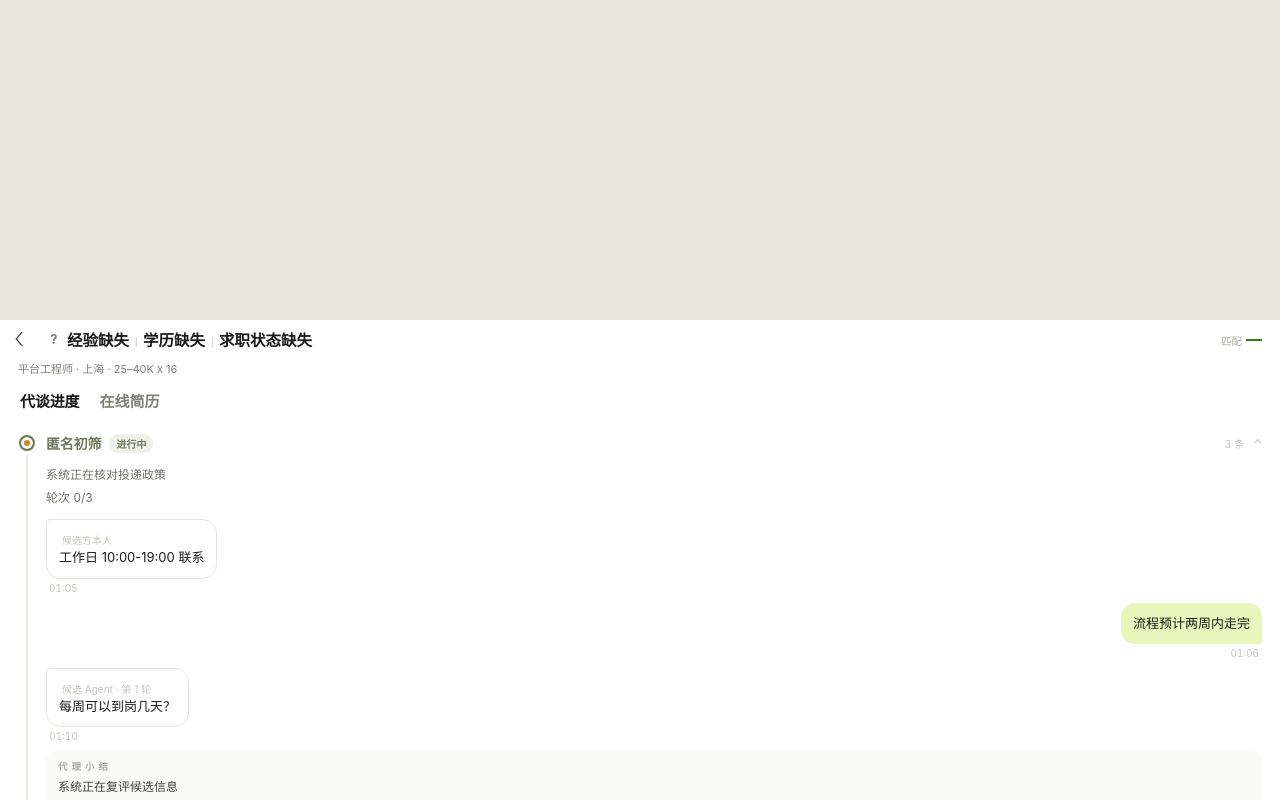
Scenario: MatchCase详情 · 招聘端在线简历 Tab（Task 4） › recruiter 资料 Tab：九区标题原位保留并逐区缺失，缺口说明与页尾说明在场
The image size is (1280, 800).
(page scrolled)
Check: the text "平台工程师 · 上海 · 25–40K x 16" is shown, box [18, 362, 177, 376]
Click the button "在线简历" at {"x": 129, "y": 400}, box [99, 390, 159, 411]
(page scrolled)
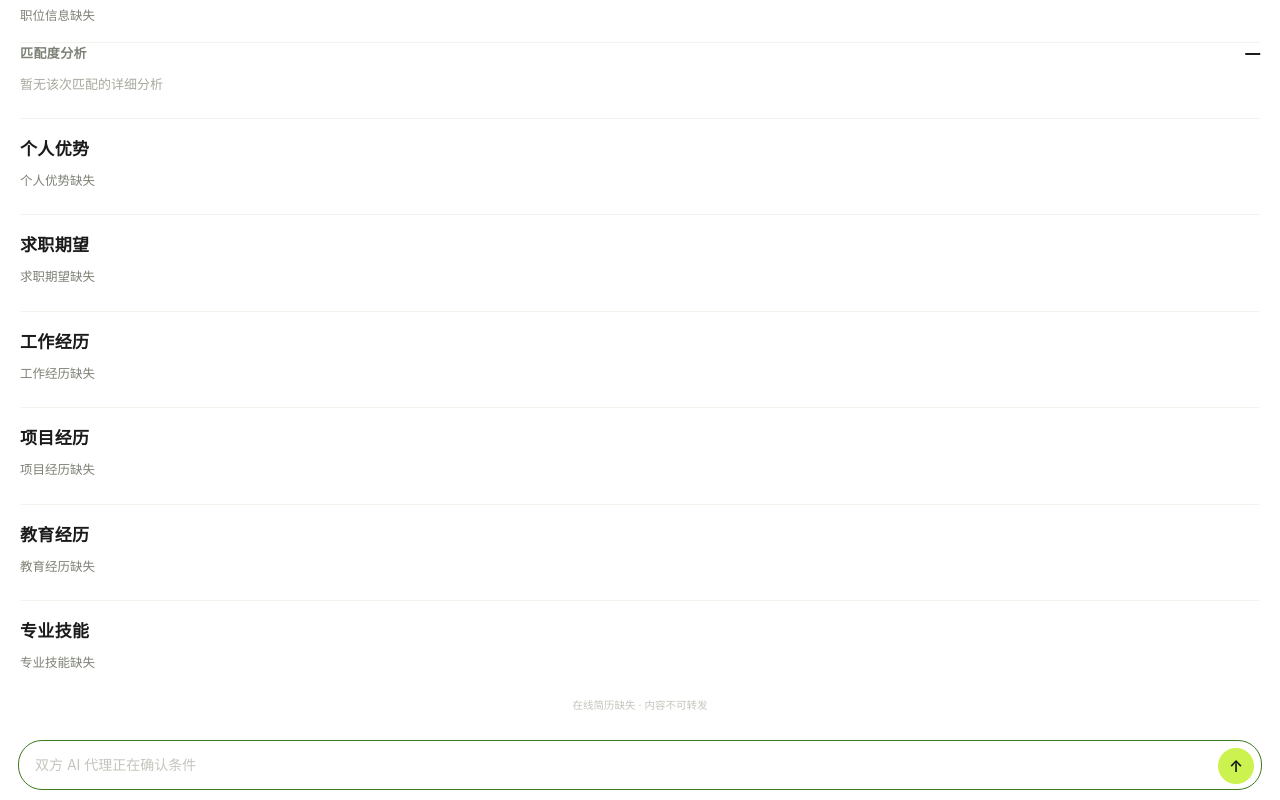
Check: the text "匹配度分析" is shown, box [20, 43, 87, 62]
Check: the text "个人优势" is shown, box [20, 135, 89, 160]
Check: the text "求职期望" is shown, box [20, 231, 89, 256]
